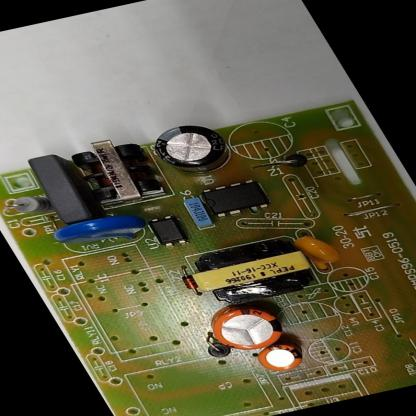Cap1: (199, 298, 293, 356)
Cap2: (252, 342, 308, 374)
Cap3: (146, 121, 238, 180)
MOSFET: (200, 179, 270, 217)
Mov: (48, 210, 149, 252)
Resistor: (2, 191, 58, 221)
Transformer: (178, 233, 326, 310), (66, 135, 166, 206)
